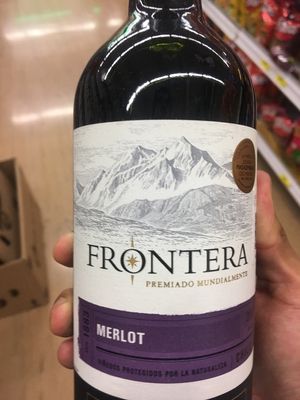frontera merlot: (53, 1, 270, 400)
